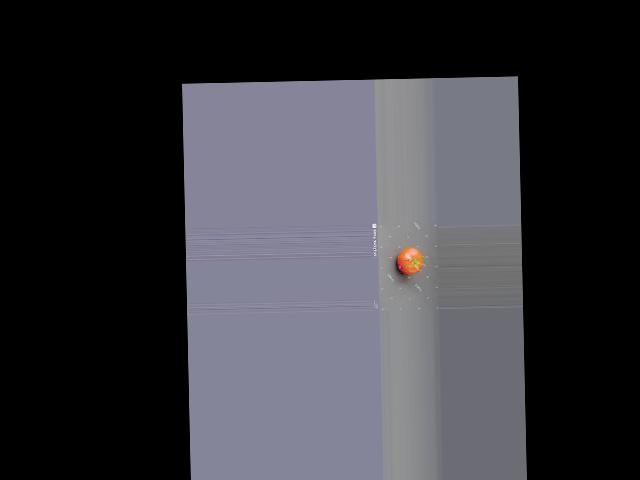tomato: (397, 247, 423, 275)
